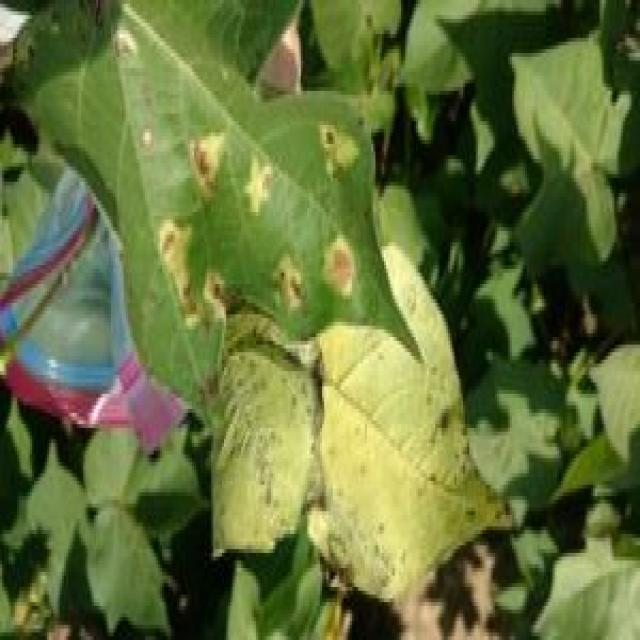Bacterial Blight: (143, 83, 361, 325)
